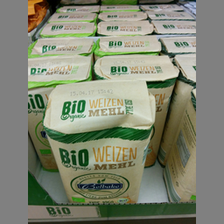flour: (43, 79, 154, 204)
